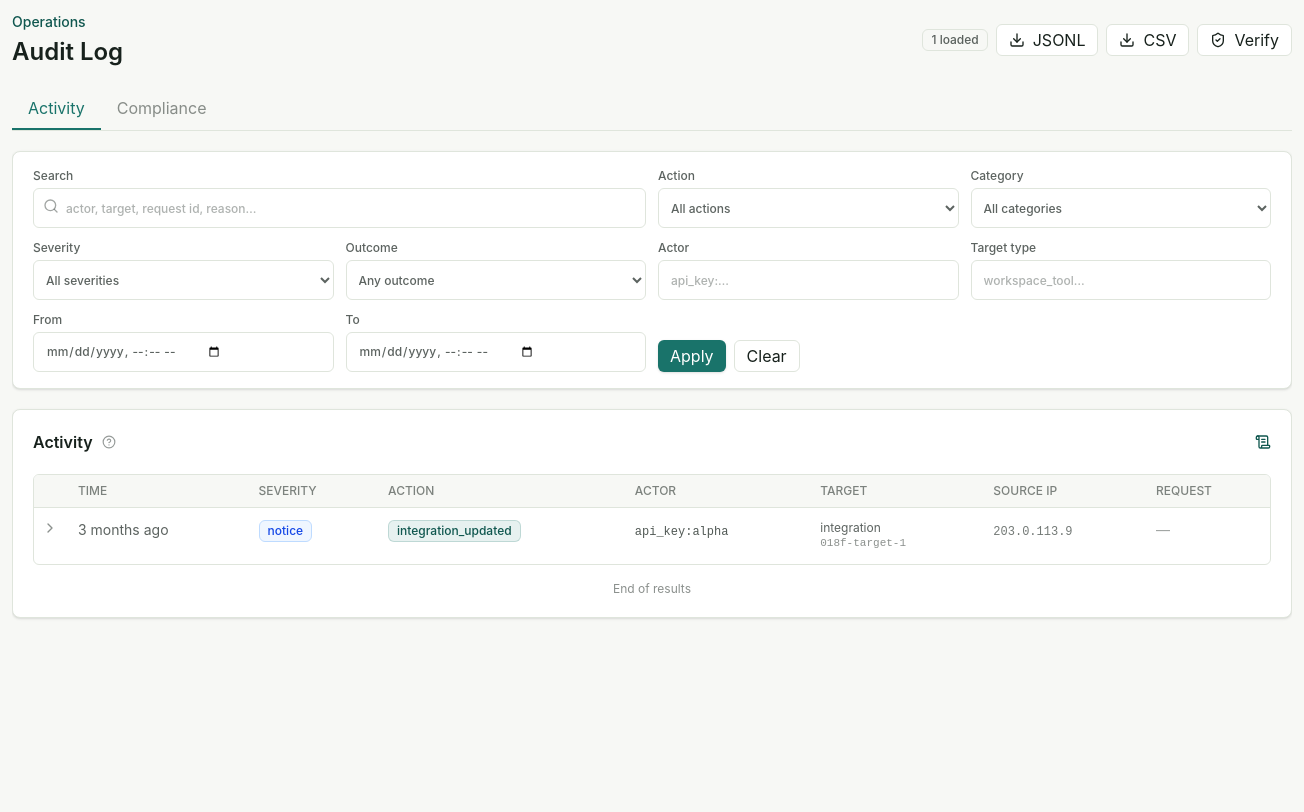
Test: AuditView › renders audit rows and never exposes secrets when a row is expanded
The image size is (1304, 812).
Check: the text "integration_updated" is shown, box [388,520,521,542]
Check: the text "203.0.113.9" is shown, box [993,525,1072,539]
# Expand the row to reveal the detail panel.
Click the button named "Expand" at (50,528), box [42,520,58,536]
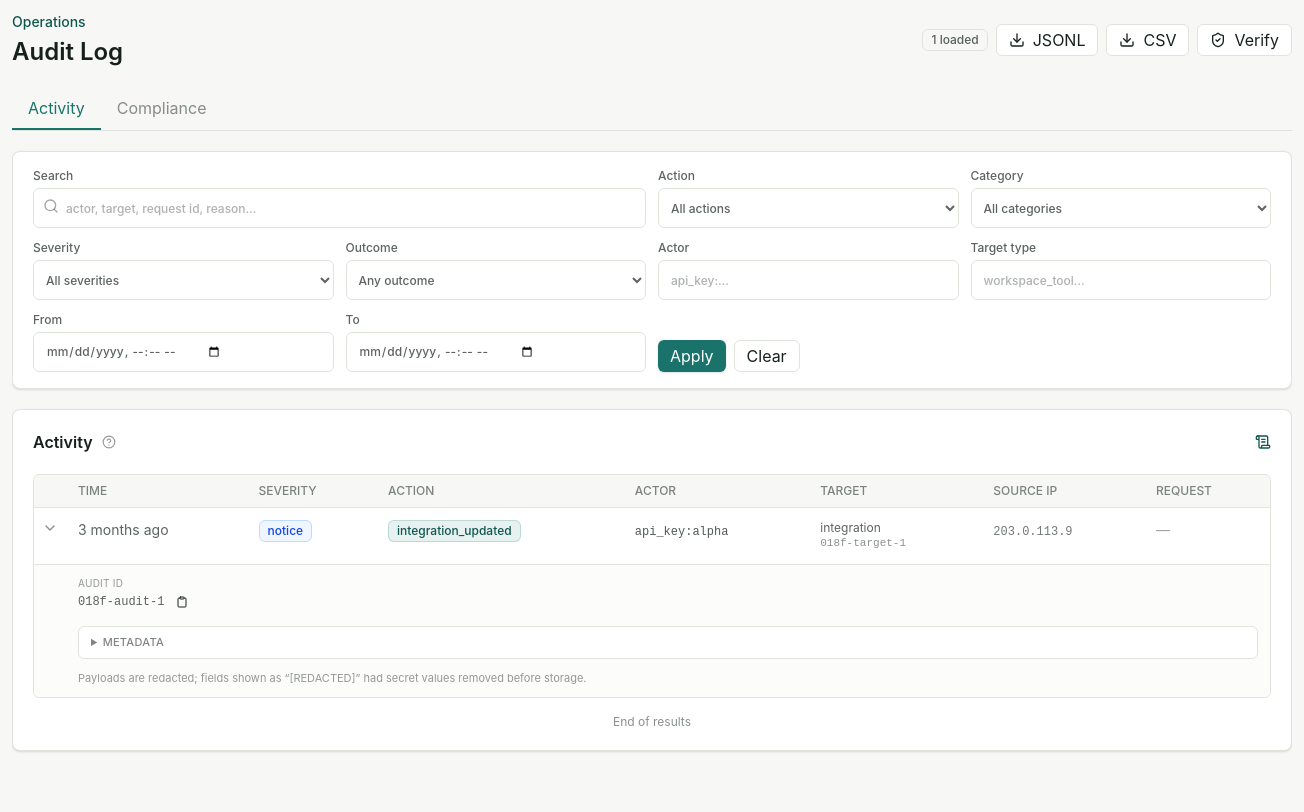
Check: the text "Payloads are redacted" is shown, box [78,671,586,685]
